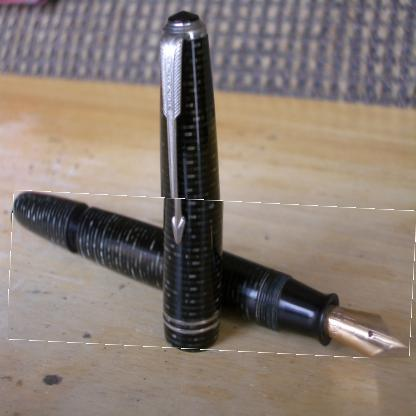Pen: (9, 195, 416, 354)
